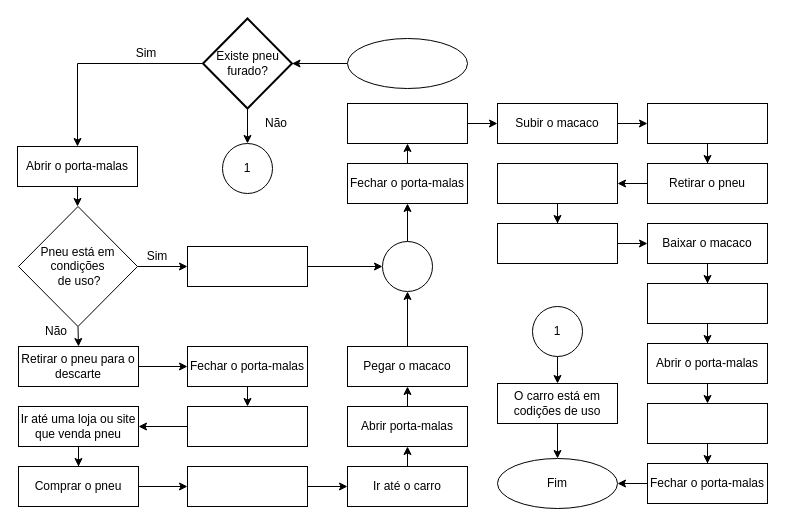
This 785x526 diagram has some shape labels left out. Each missing label, with the centre of its shape:
"Apertar os parafusos" goes at (x=557, y=243).
"Colocar o macaco na posição" goes at (x=407, y=123).
"Colocar o pneu reserva" goes at (x=557, y=183).
"Descartar pneu em local apropriado" goes at (x=247, y=426).
"Guardar o pneu e o macaco" goes at (x=707, y=423).
"Início" goes at (x=407, y=63).
"Pegar o pneu" goes at (x=247, y=486).
"Pegar o pneu reserva e o macaco" goes at (x=247, y=266).
"Retirar o macaco" goes at (x=707, y=303).
"Retirar os parafusos" goes at (x=707, y=123).
